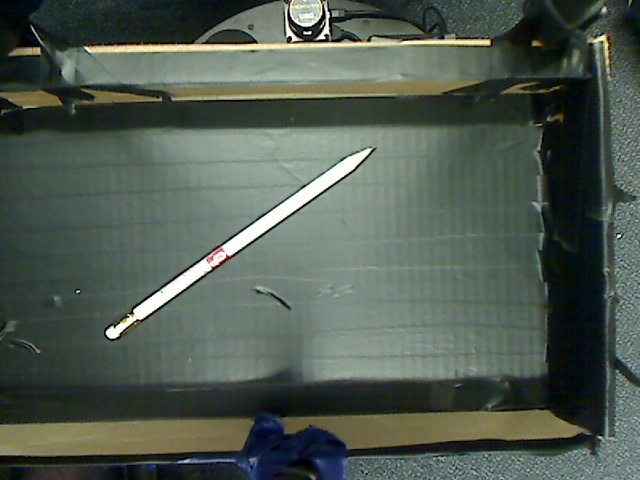pencil: (92, 140, 376, 348)
